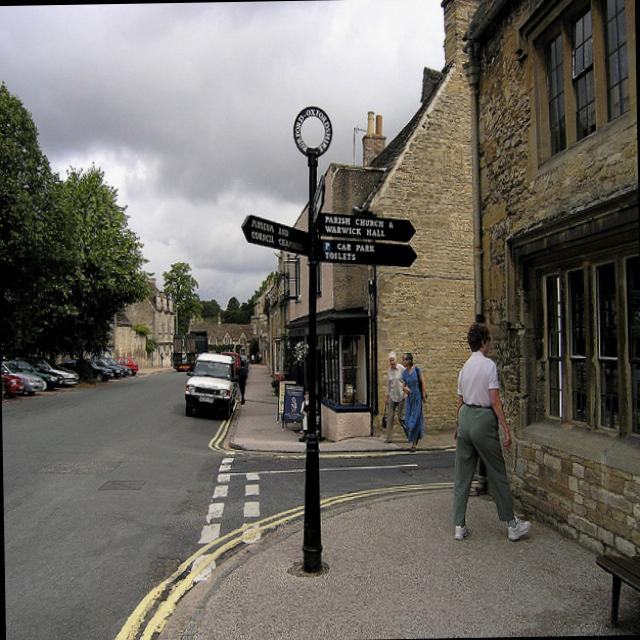Vehicle: (182, 351, 240, 422), (5, 359, 64, 391), (0, 357, 48, 396), (28, 356, 78, 384), (60, 359, 113, 381), (0, 368, 22, 398), (100, 357, 122, 378), (114, 356, 138, 374), (110, 358, 130, 377), (220, 352, 240, 371)
